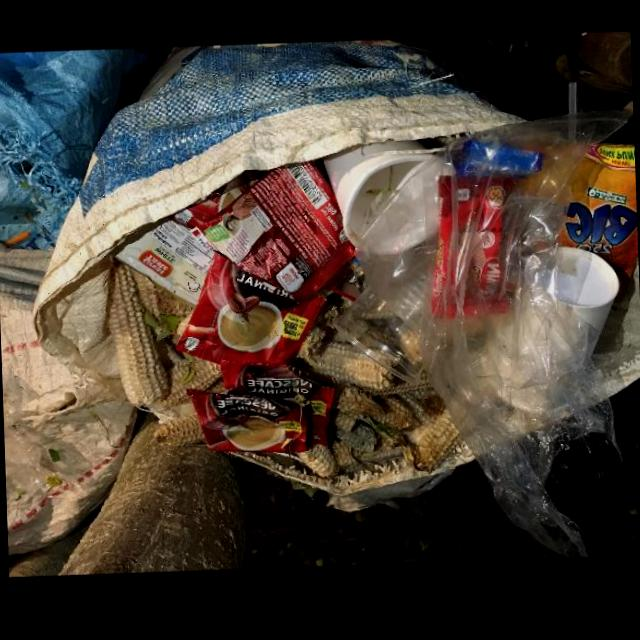bao_bi_thuc_pham: (430, 175, 514, 321)
goi_nhua_nho: (191, 158, 354, 309), (116, 170, 270, 305), (175, 253, 326, 365), (556, 143, 638, 291), (220, 360, 334, 446), (186, 388, 307, 453)
ong_hut_nhua: (568, 81, 576, 143)
thuc_an_thua: (107, 257, 170, 409), (303, 339, 394, 390), (158, 352, 221, 406), (405, 413, 459, 473), (152, 410, 202, 452)
tui_ni_long: (423, 110, 630, 558)
